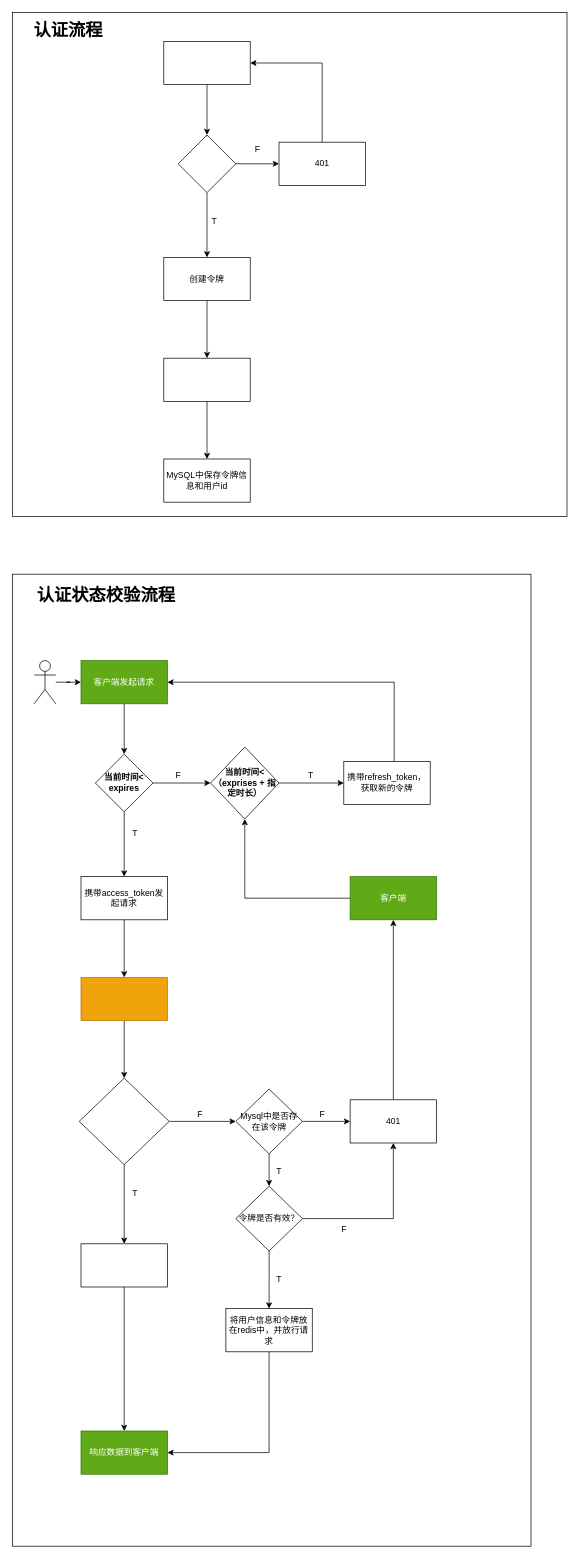
Image size: 580x1559. Some labels were removed from this diagram. Each missing label, with the centre of its shape:
"Actor" goes at point (44, 682).
"redis中保存令牌及对应的用户信息" goes at point (206, 379).
"Redis中是否存在access_token对应的用户" goes at point (123, 1121).
"后端服务" goes at point (123, 999).
"放行处理请求" goes at point (123, 1265).
"登录" goes at point (206, 63).
"认证成功？" goes at point (206, 163).
